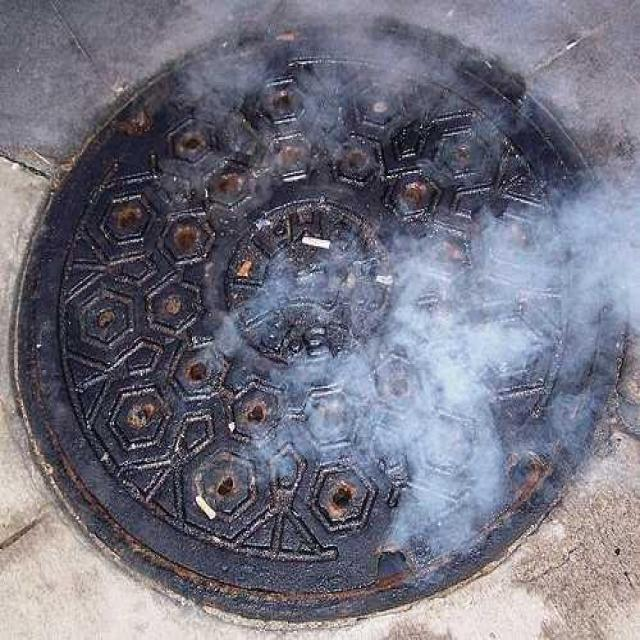manhole: (9, 6, 634, 625)
